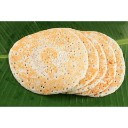dosa: (9, 28, 126, 97)
